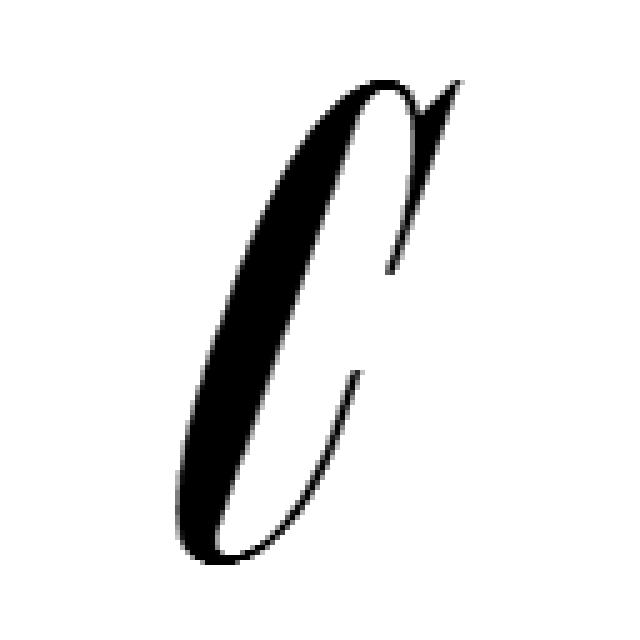C: (175, 80, 465, 570)
